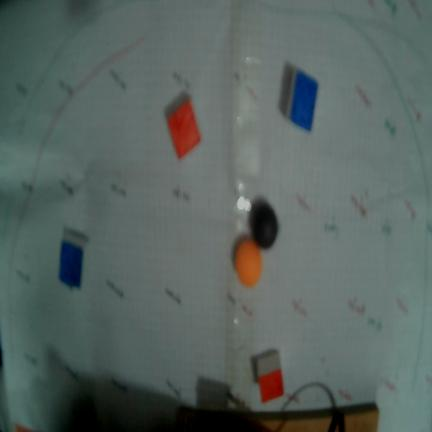circle_blue: (249, 199, 278, 249)
circle_orange: (234, 237, 262, 287)
rectangle_blue: (290, 71, 317, 129)
rectangle_orange: (257, 366, 284, 406)
square_blue: (290, 71, 317, 129), (60, 241, 83, 287)
square_orange: (168, 99, 201, 158)
